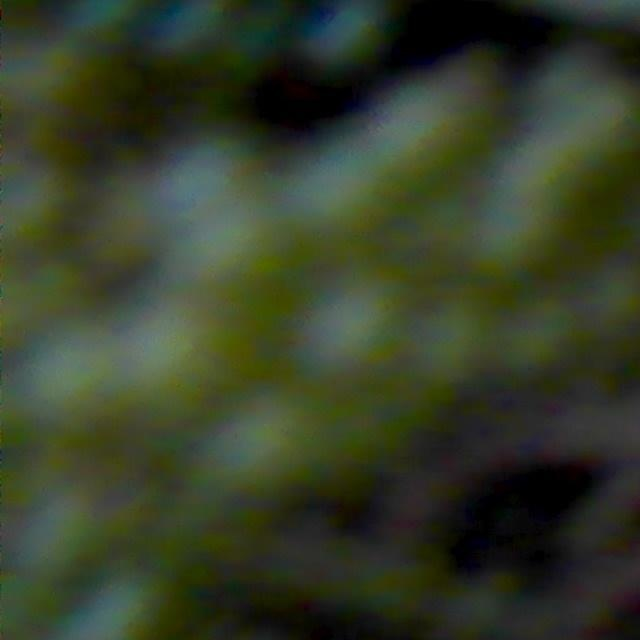SeaGrape: (92, 300, 224, 422), (363, 68, 484, 182), (290, 268, 400, 383), (141, 148, 256, 242), (206, 400, 312, 496), (18, 315, 109, 424), (487, 288, 576, 384), (287, 147, 373, 240), (399, 293, 485, 386), (310, 0, 387, 66), (576, 258, 640, 326)
